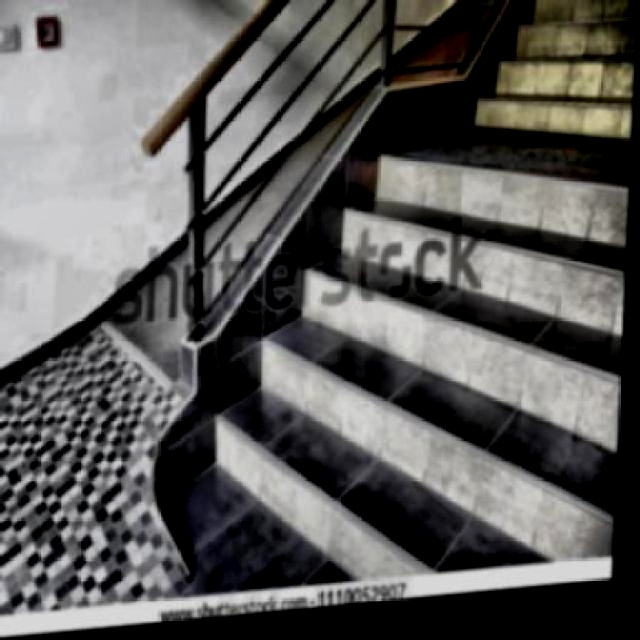stair: (173, 67, 636, 604)
